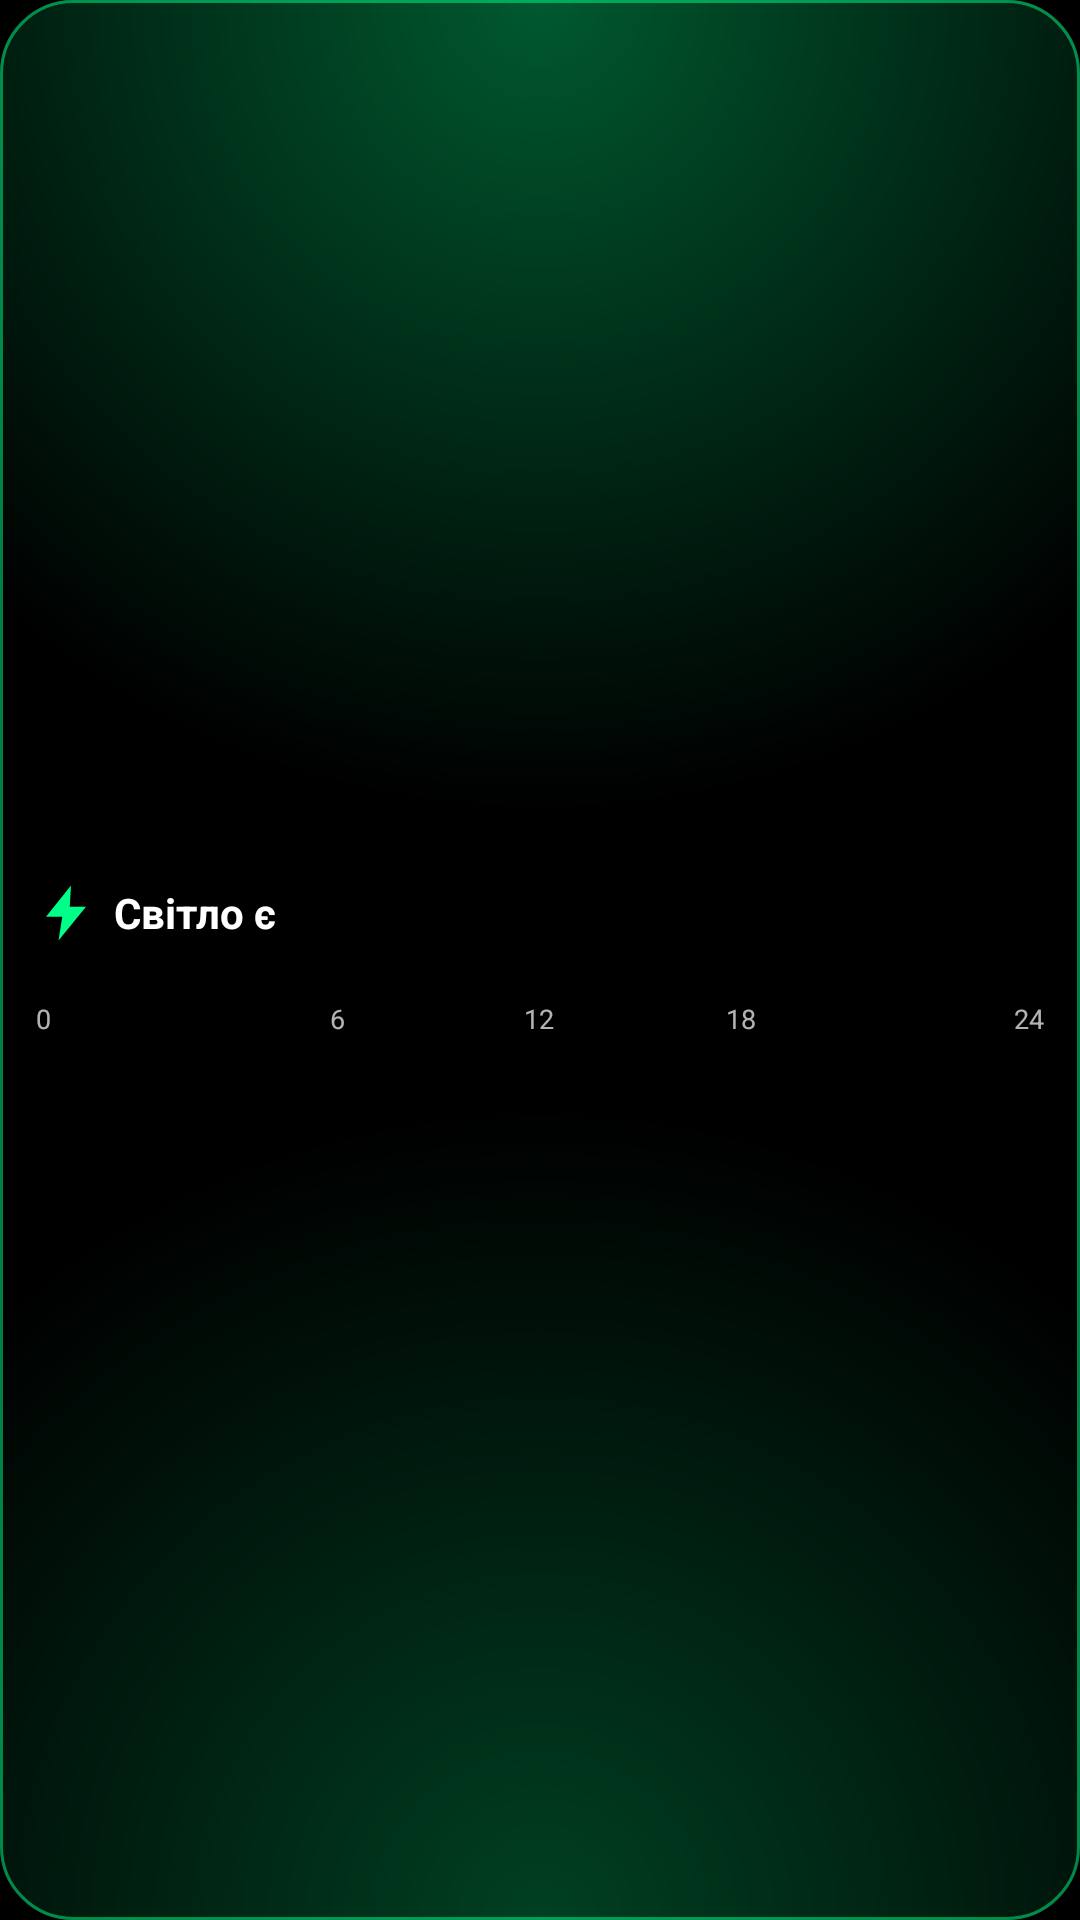

Icons on this 1080×1920 Android screen, each with its box as detection(x1, y1, x2, y2):
bolt on: detection(46, 886, 86, 940)
